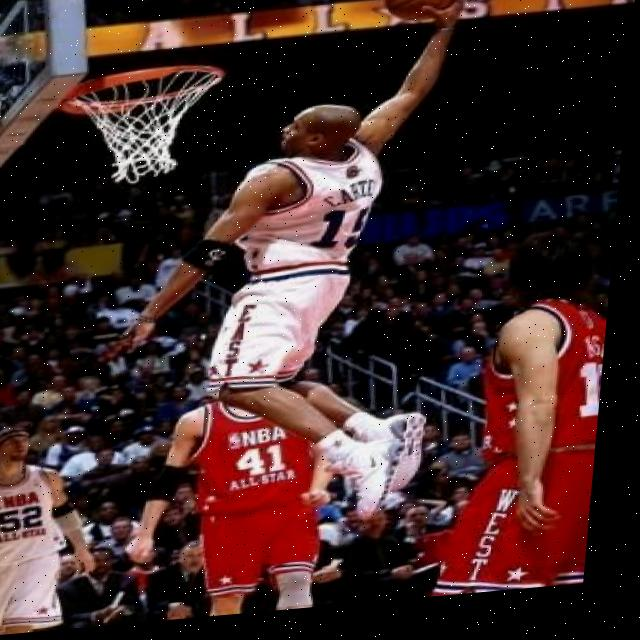basketball: (385, 0, 462, 25)
hoop: (66, 62, 225, 184)
